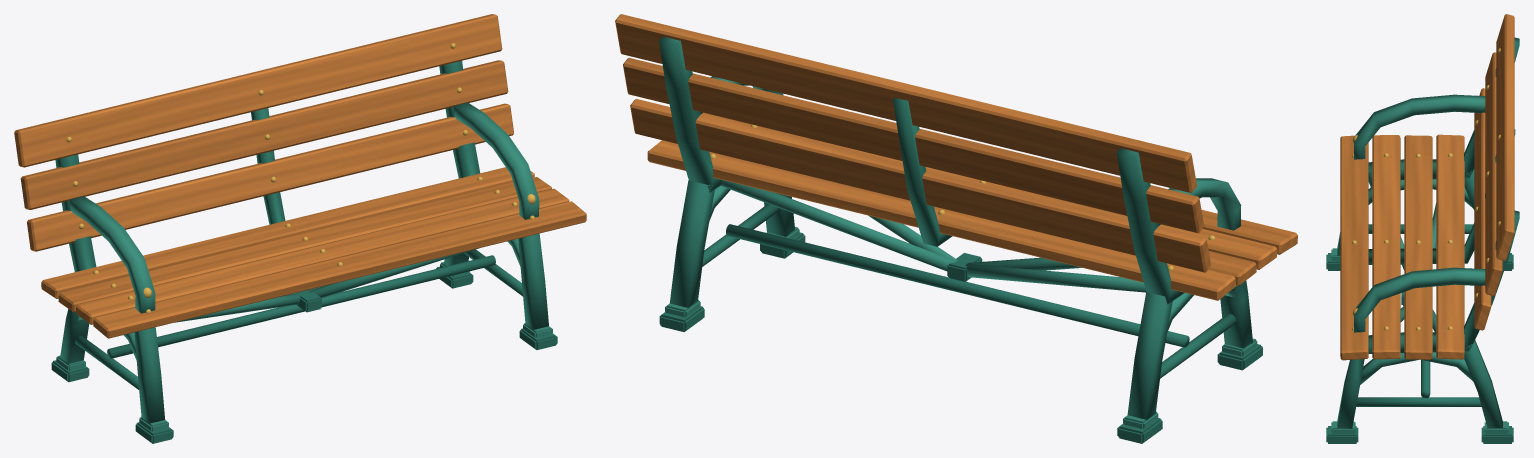
The model's file is bench-BcHlQyoW.glb.
3 views of the same model, side by side, from view 1: azimuth 30°, elevation 25°; view 2: azimuth 150°, elevation 25°; view 3: azimuth 270°, elevation 25° (orthographic). The views are drawn at different scales.
Parts seen in each view (by area): view 1: Moonbay verdigris cast-iron and oak park bench; view 2: Moonbay verdigris cast-iron and oak park bench; view 3: Moonbay verdigris cast-iron and oak park bench.
Part boxes in pixels (x1,y1,x2,y2): Moonbay verdigris cast-iron and oak park bench: (14,14,586,443); Moonbay verdigris cast-iron and oak park bench: (615,14,1297,443); Moonbay verdigris cast-iron and oak park bench: (1326,14,1519,443).
Size of the model in its own units: 1.8 by 0.9 by 0.68.
Materials: 3 (1 with a texture image).
